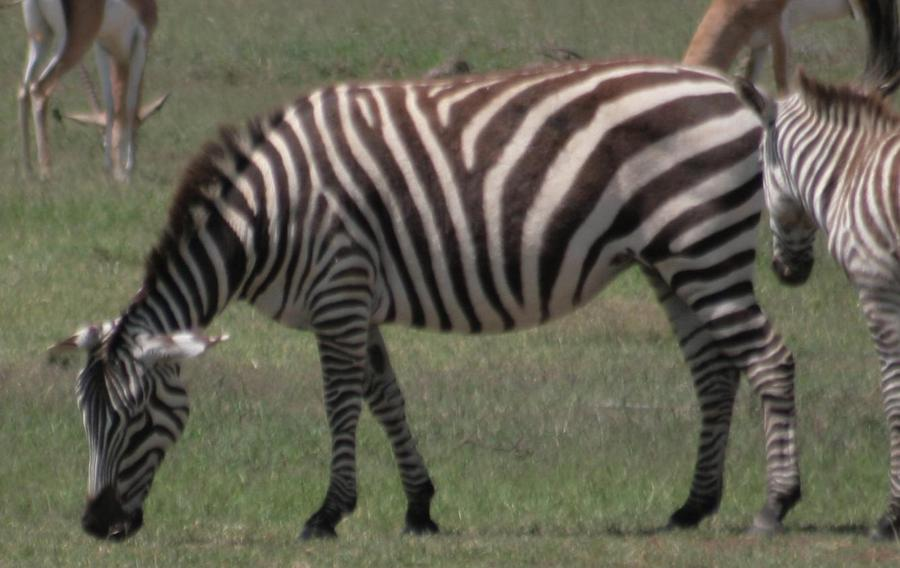zebra_plains: (218, 32, 810, 345)
